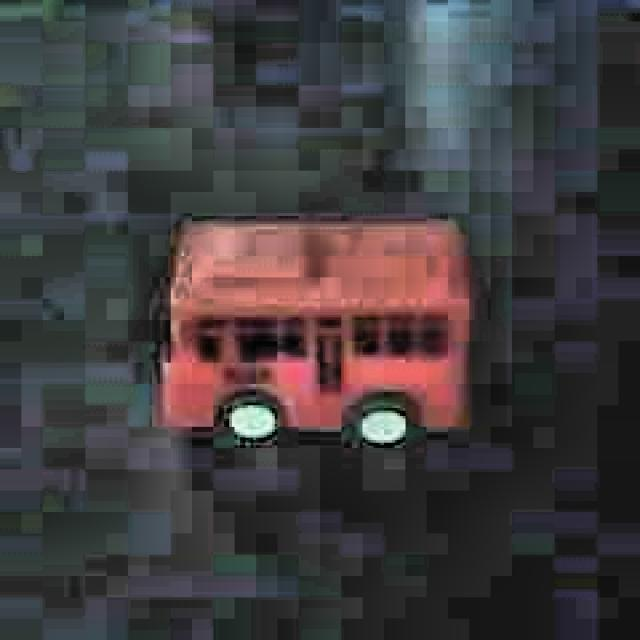bus: (150, 208, 479, 458)
